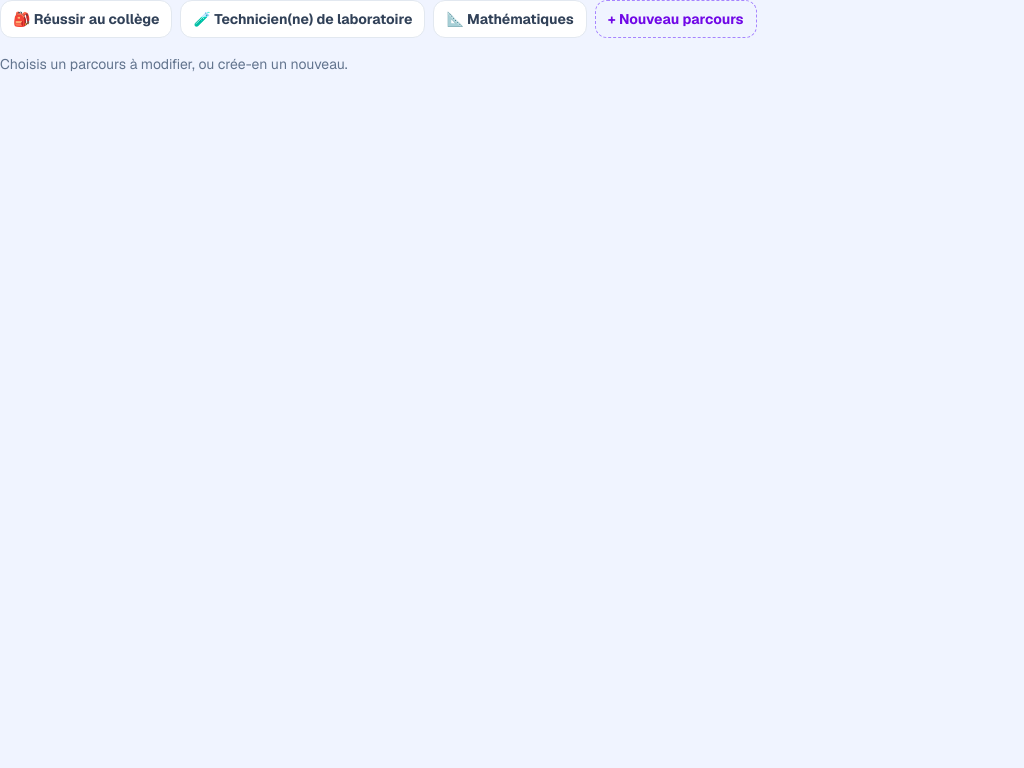
it: training path editor (parent company) › edits an existing path and shows the server’s refusal
The image size is (1024, 768).
Click the button "📐 Mathématiques" at (510, 19), box left=433, top=0, right=587, bottom=38
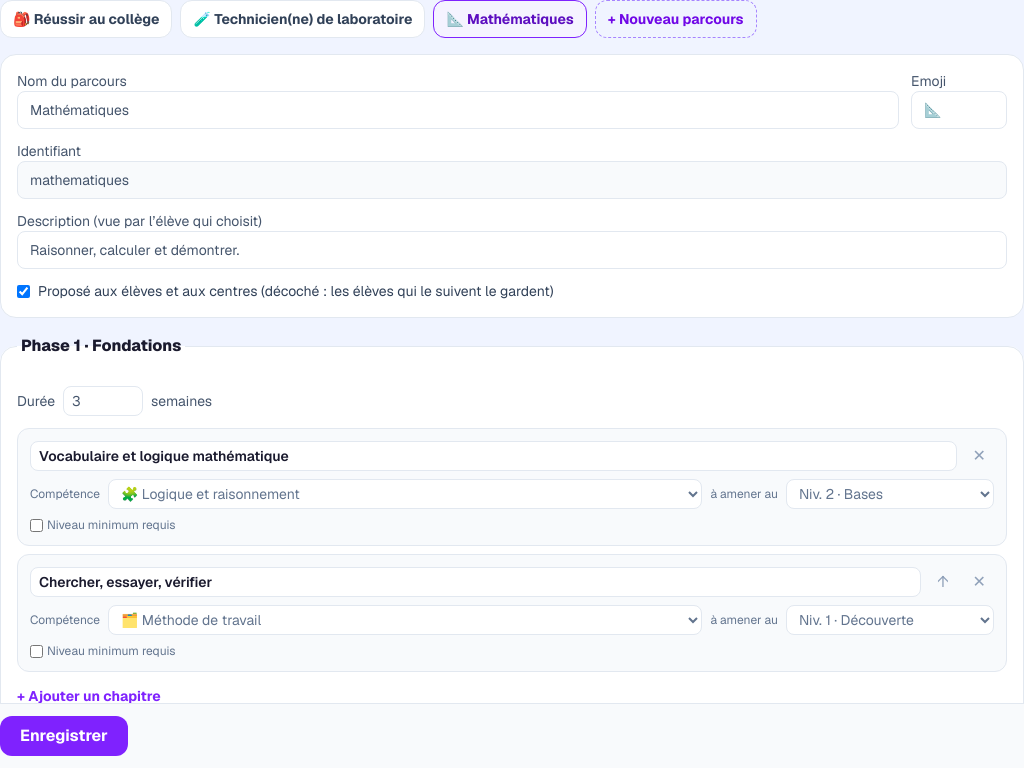
Result: the field labelled "Identifiant" is disabled at left=17, top=161, right=1007, bottom=199
Click the button "Enregistrer" at (64, 736), box left=0, top=716, right=128, bottom=756
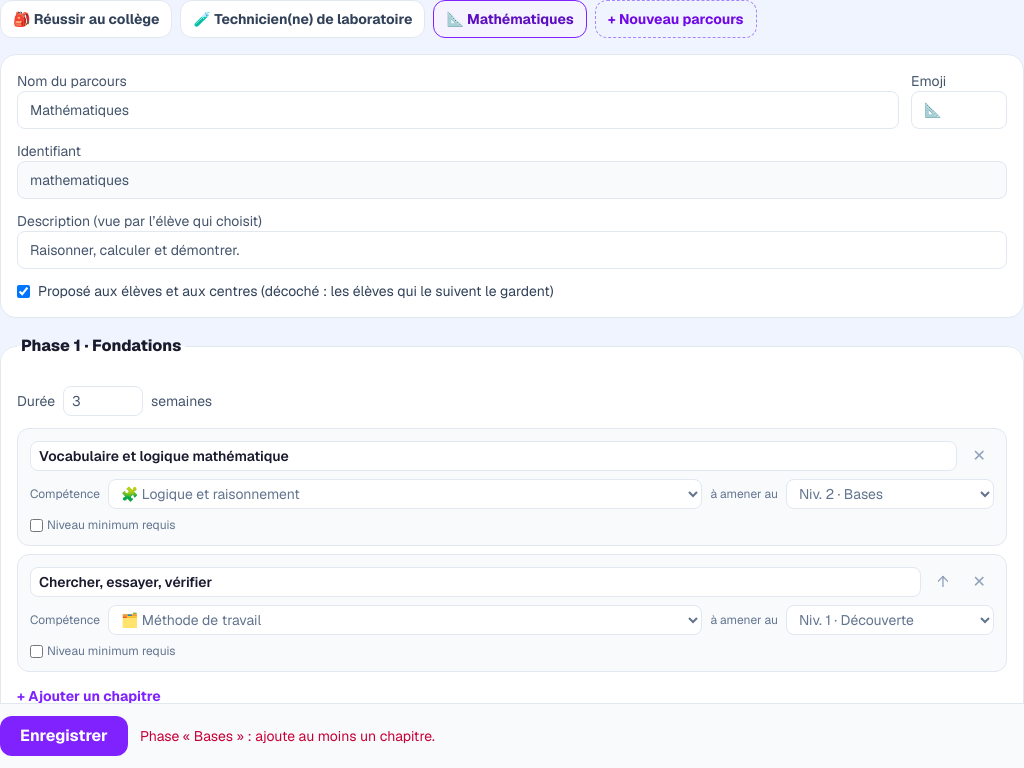
Result: the message shows "ajoute au moins un chapitre" at left=140, top=727, right=435, bottom=745
